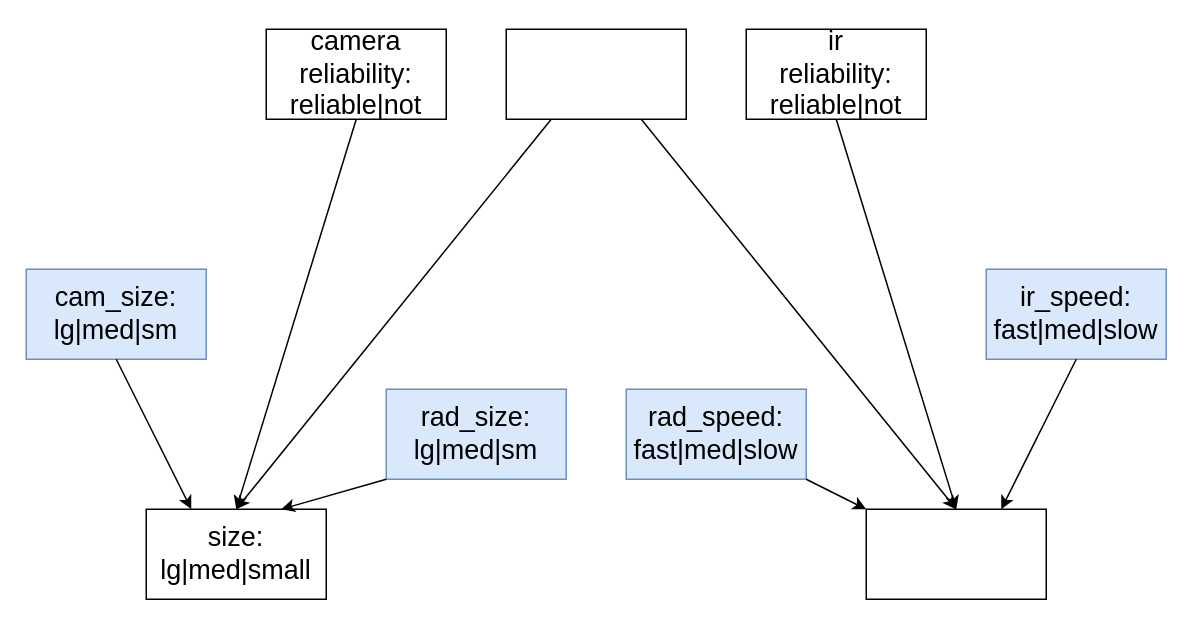
The diagram is 1193 pixels wide and 626 high, and some of its shapes have lost their labels. The centre of each missing label's shape, as x and y in pixels:
radar reliability: reliable|not: point (595, 73)
speed: fast|med|slow: point (955, 553)
